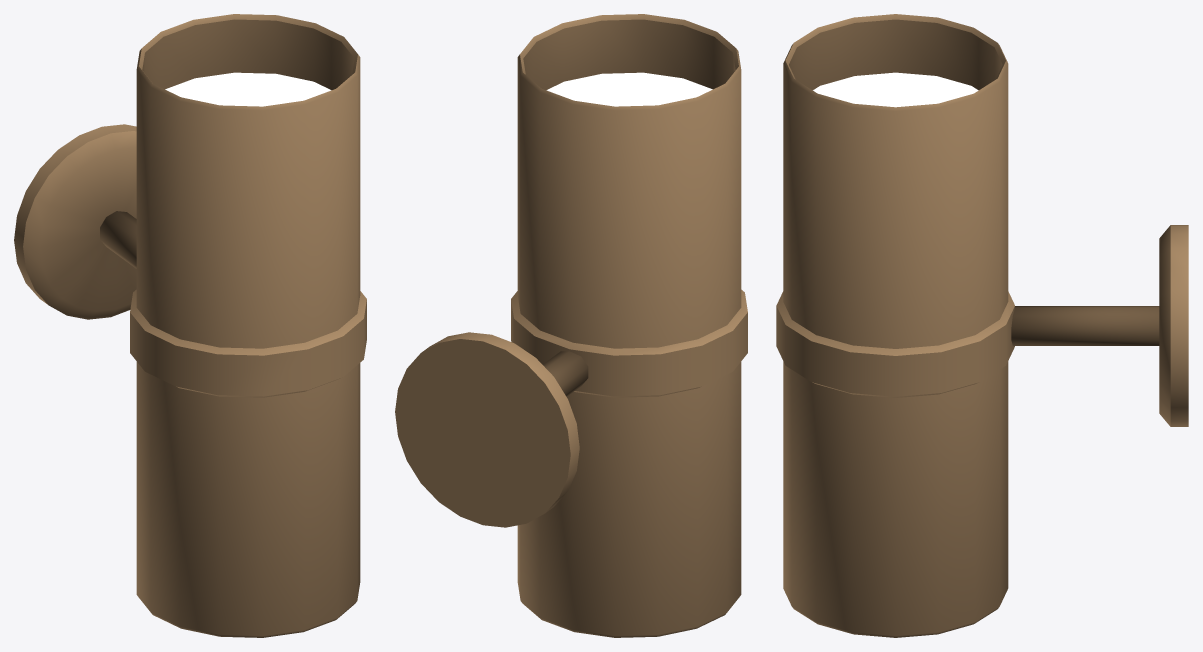
File: light_g_sconce_updown.gltf
3 renders of one model, left to right at view 1: azimuth 30°, elevation 25°; view 2: azimuth 150°, elevation 25°; view 3: azimuth 270°, elevation 25°, orthographic.
Parts seen in each view (by area): view 1: LightGSconceUpDown_Body_NoCollide, LightGSconceUpDown_Plate_NoCollide, LightGSconceUpDown_Band_NoCollide, LightGSconceUpDown_Lens_NoCollide, LightGSconceUpDown_Arm_NoCollide; view 2: LightGSconceUpDown_Body_NoCollide, LightGSconceUpDown_Plate_NoCollide, LightGSconceUpDown_Band_NoCollide, LightGSconceUpDown_Lens_NoCollide, LightGSconceUpDown_Arm_NoCollide; view 3: LightGSconceUpDown_Body_NoCollide, LightGSconceUpDown_Band_NoCollide, LightGSconceUpDown_Arm_NoCollide, LightGSconceUpDown_Plate_NoCollide, LightGSconceUpDown_Lens_NoCollide.
Part boxes in pixels (<box>): LightGSconceUpDown_Body_NoCollide: <box>136,14,360,637</box>; LightGSconceUpDown_Plate_NoCollide: <box>14,124,136,319</box>; LightGSconceUpDown_Band_NoCollide: <box>130,289,366,397</box>; LightGSconceUpDown_Lens_NoCollide: <box>165,72,331,106</box>; LightGSconceUpDown_Arm_NoCollide: <box>100,211,136,268</box>; LightGSconceUpDown_Body_NoCollide: <box>517,14,741,637</box>; LightGSconceUpDown_Plate_NoCollide: <box>395,332,579,527</box>; LightGSconceUpDown_Band_NoCollide: <box>511,289,747,397</box>; LightGSconceUpDown_Lens_NoCollide: <box>546,72,712,106</box>; LightGSconceUpDown_Arm_NoCollide: <box>542,351,588,396</box>; LightGSconceUpDown_Body_NoCollide: <box>783,14,1008,637</box>; LightGSconceUpDown_Band_NoCollide: <box>776,291,1014,397</box>; LightGSconceUpDown_Arm_NoCollide: <box>1011,306,1159,345</box>; LightGSconceUpDown_Plate_NoCollide: <box>1159,225,1188,426</box>; LightGSconceUpDown_Lens_NoCollide: <box>813,72,978,107</box>.
Bounding box in the file's own units: 0.106 × 0.26 × 0.183.
